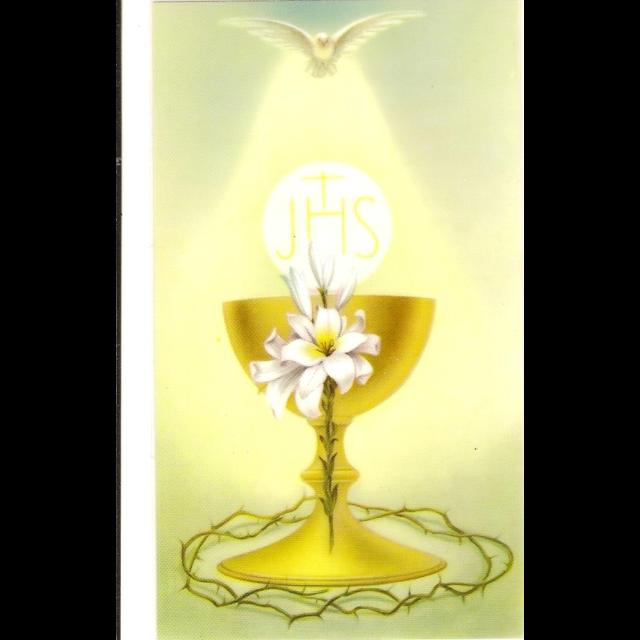Flower: (272, 302, 364, 421)
